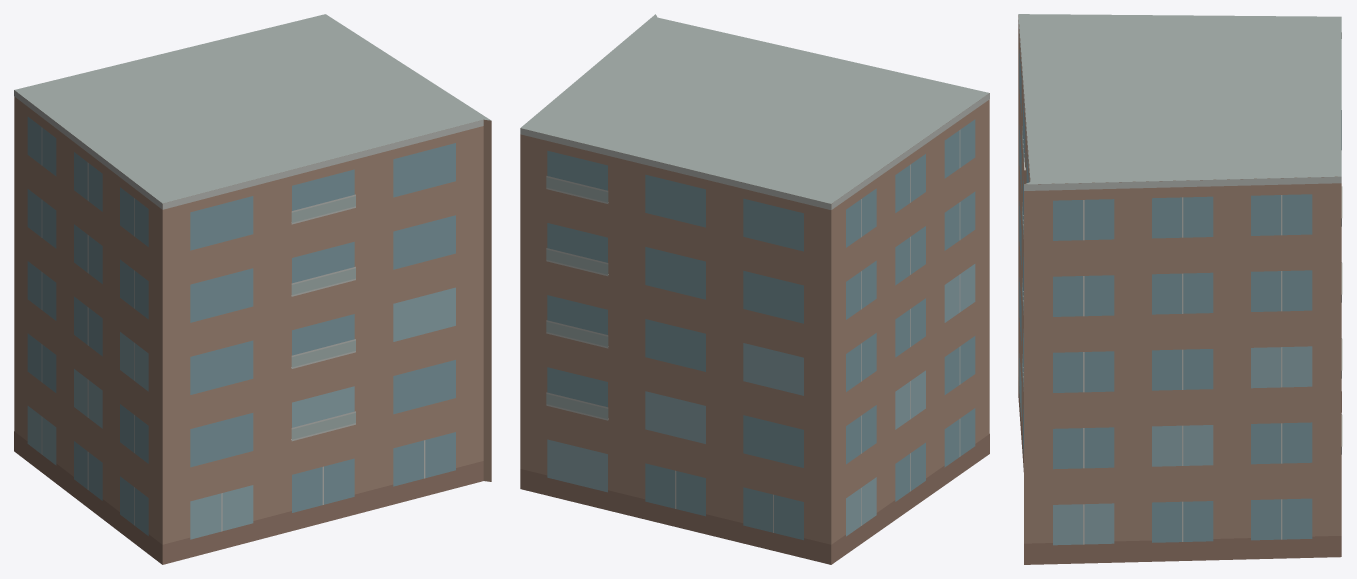
The model's file is survey-upis-32632431.glb.
3 renders of one model, left to right at view 1: azimuth 30°, elevation 25°; view 2: azimuth 150°, elevation 25°; view 3: azimuth 270°, elevation 25°, orthographic. The views are drawn at different scales.
Visible parts, largest first — view 1: survey-upis-32632431.tmp; view 2: survey-upis-32632431.tmp; view 3: survey-upis-32632431.tmp.
Boxes of the visible parts, bbox=[...] form: survey-upis-32632431.tmp: bbox=[14, 14, 491, 564]; survey-upis-32632431.tmp: bbox=[520, 14, 989, 564]; survey-upis-32632431.tmp: bbox=[1018, 14, 1342, 564].
Size of the model in its own units: 13.46 by 14 by 10.82.
